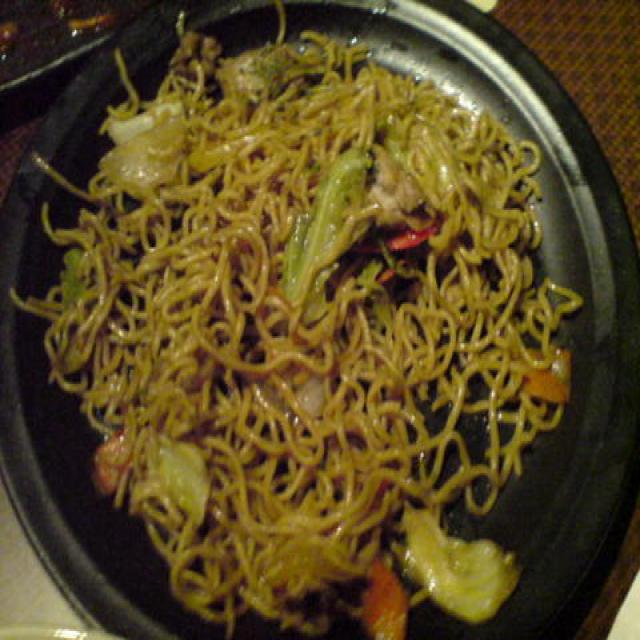面条主食: (57, 27, 552, 620)
